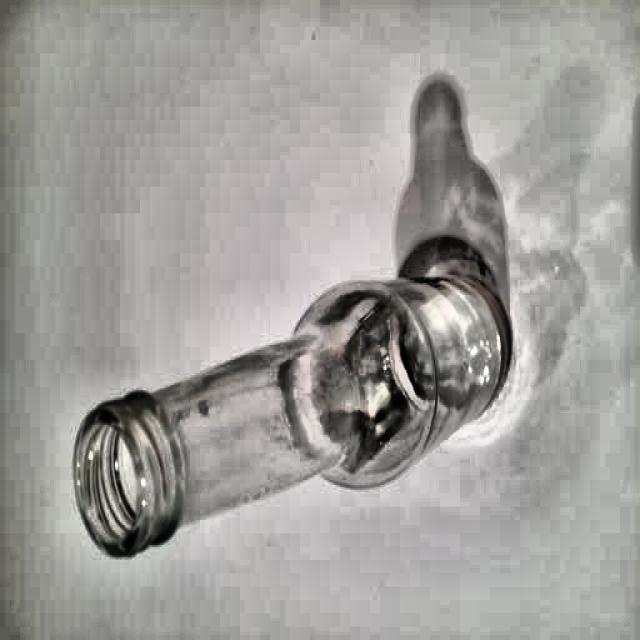glass: (70, 276, 514, 558)
